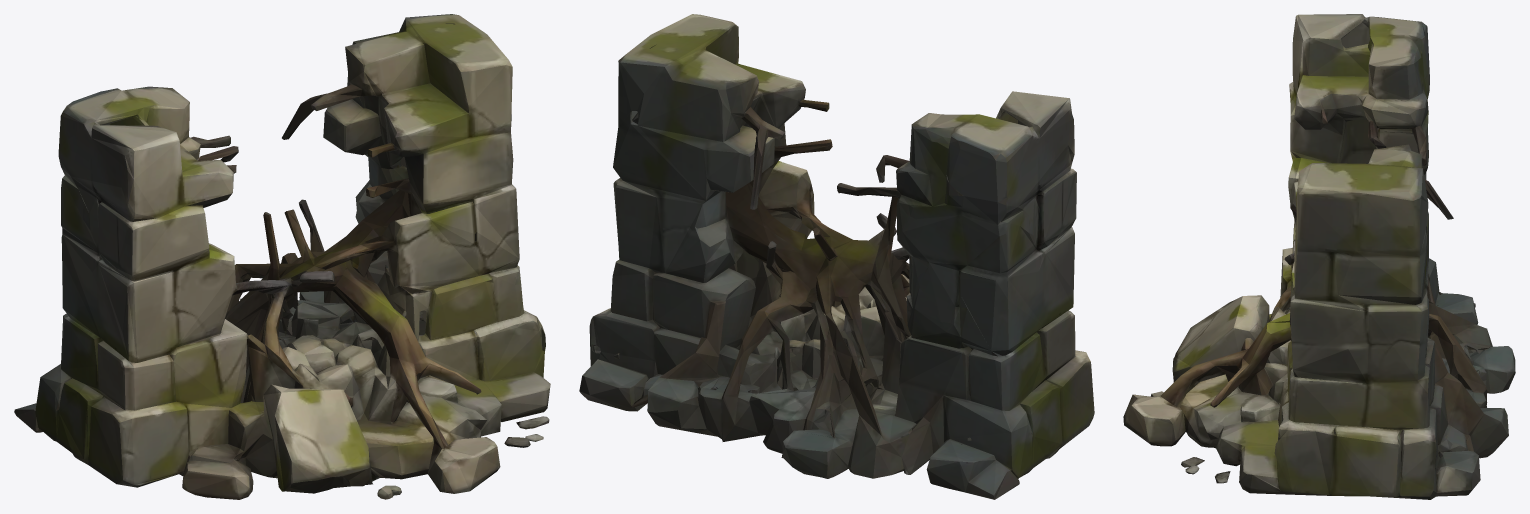
File: wall_ruin.glb
3 views of the same model, side by side, from view 1: azimuth 30°, elevation 25°; view 2: azimuth 150°, elevation 25°; view 3: azimuth 270°, elevation 25° (orthographic). The views are drawn at different scales.
Parts seen in each view (by area): view 1: world; view 2: world; view 3: world.
Part boxes in pixels (x1,y1,x2,y2): world: [14, 14, 550, 499]; world: [579, 14, 1094, 499]; world: [1123, 14, 1515, 499].
Size of the model in its own units: 0.9949 by 0.7628 by 0.8499.
Materials: 1 (1 with a texture image).
